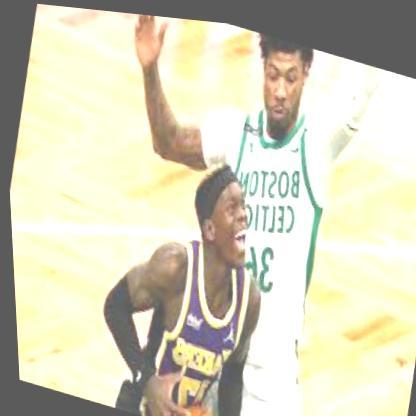basketball: (168, 392, 219, 416)
